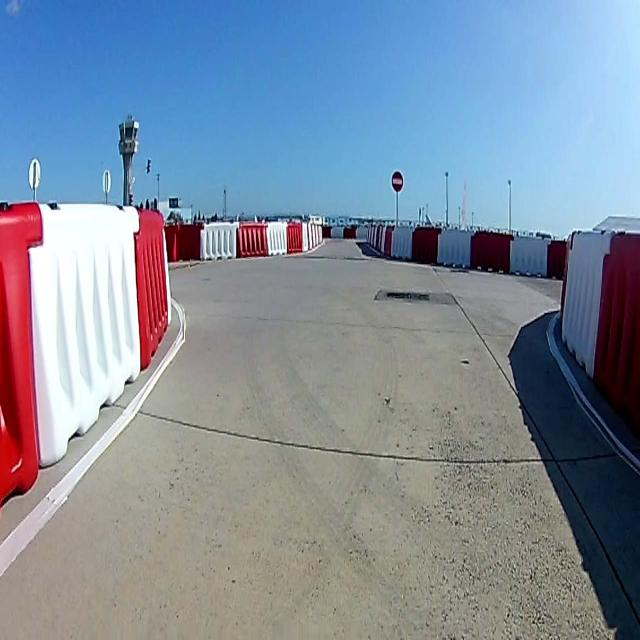girisyok: (392, 171, 404, 192)
